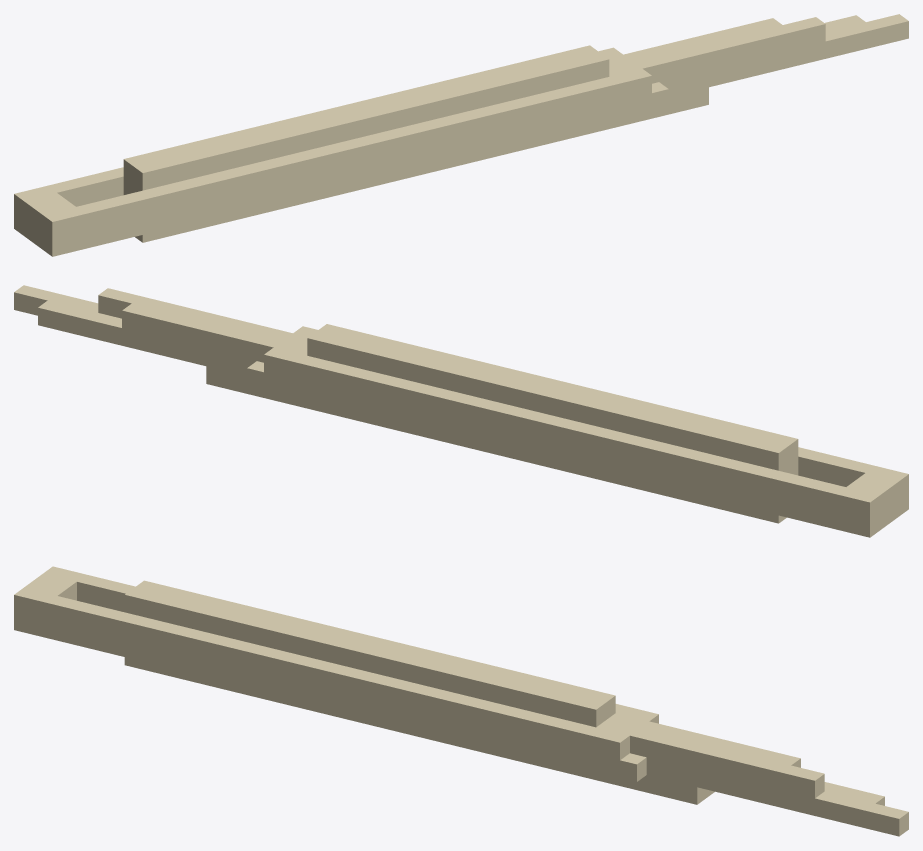
Rendered from needle_bone.glb.
3 views of the same model, one above another, from view 1: azimuth 30°, elevation 25°; view 2: azimuth 150°, elevation 25°; view 3: azimuth 330°, elevation 25° (orthographic).
Parts seen in each view (by area): view 1: needle_bone:compound; view 2: needle_bone:compound; view 3: needle_bone:compound.
Boxes of the visible parts, x1,y1,x2,y2 form: needle_bone:compound: (14, 14, 908, 256); needle_bone:compound: (14, 285, 908, 537); needle_bone:compound: (14, 566, 908, 836).
Size of the model in its own units: 0.104 by 0.008 by 0.008.
